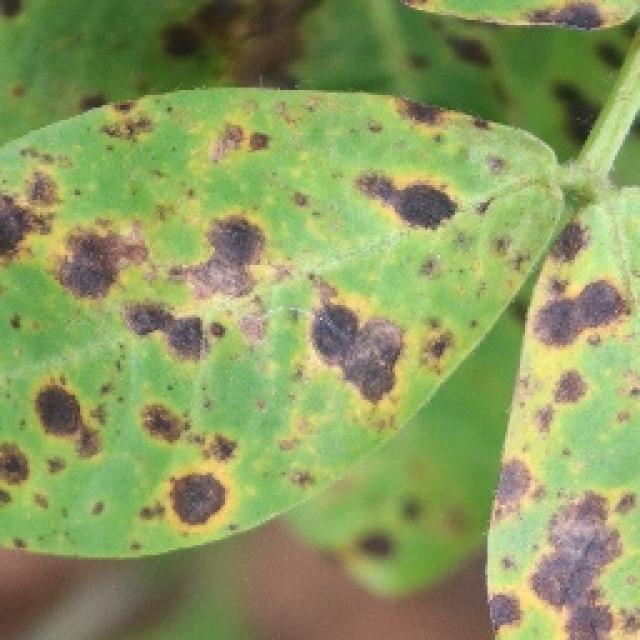Yellowish: (0, 62, 632, 639), (379, 0, 640, 42)
